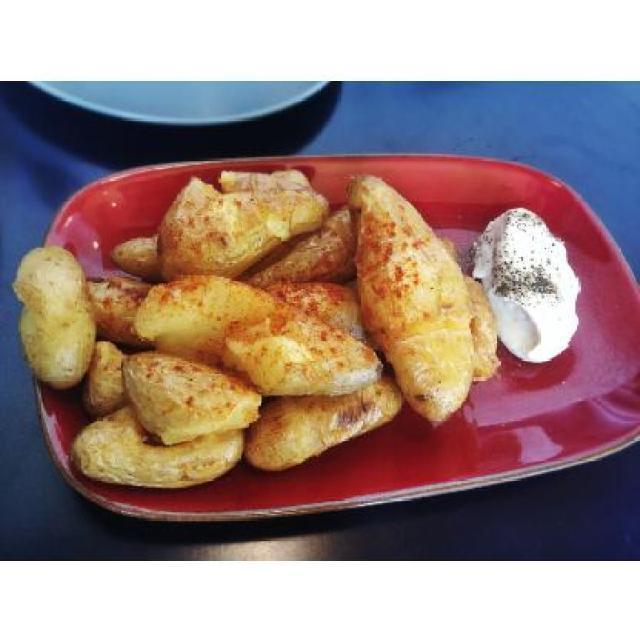Potato: (14, 228, 94, 400)
